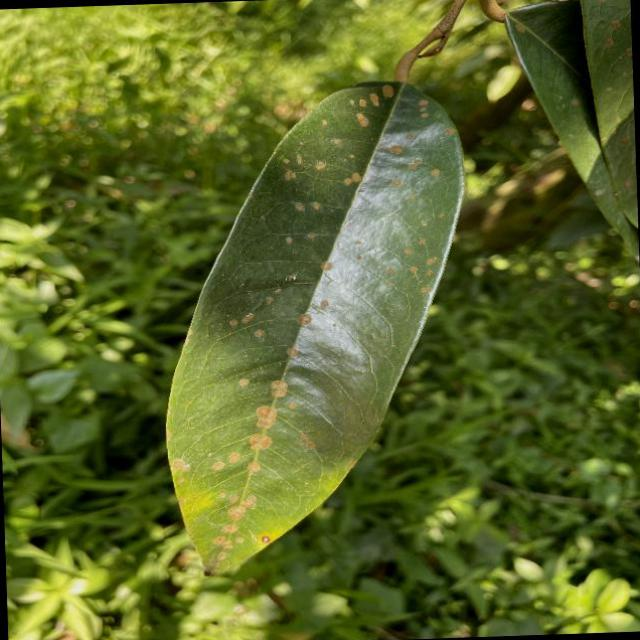Algal Leaf Spot: (148, 68, 488, 579)
